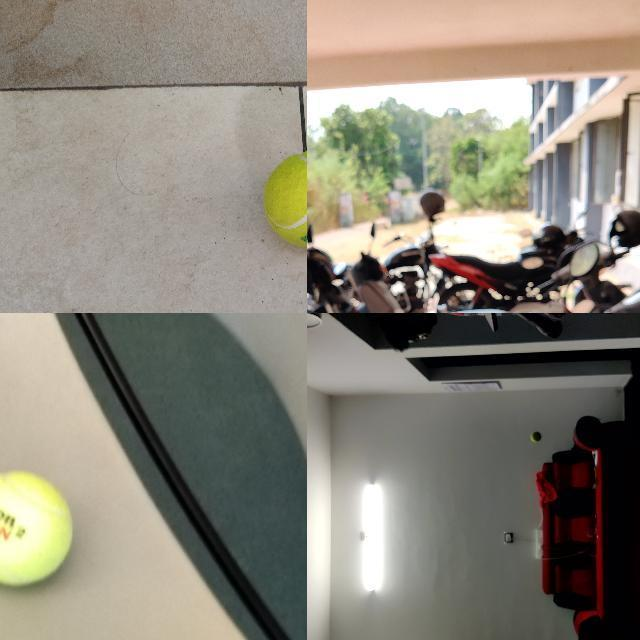tennis-ball: (0, 470, 75, 588), (263, 150, 306, 248), (531, 431, 542, 441)
